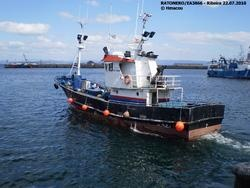otherboat: (50, 1, 227, 141)
